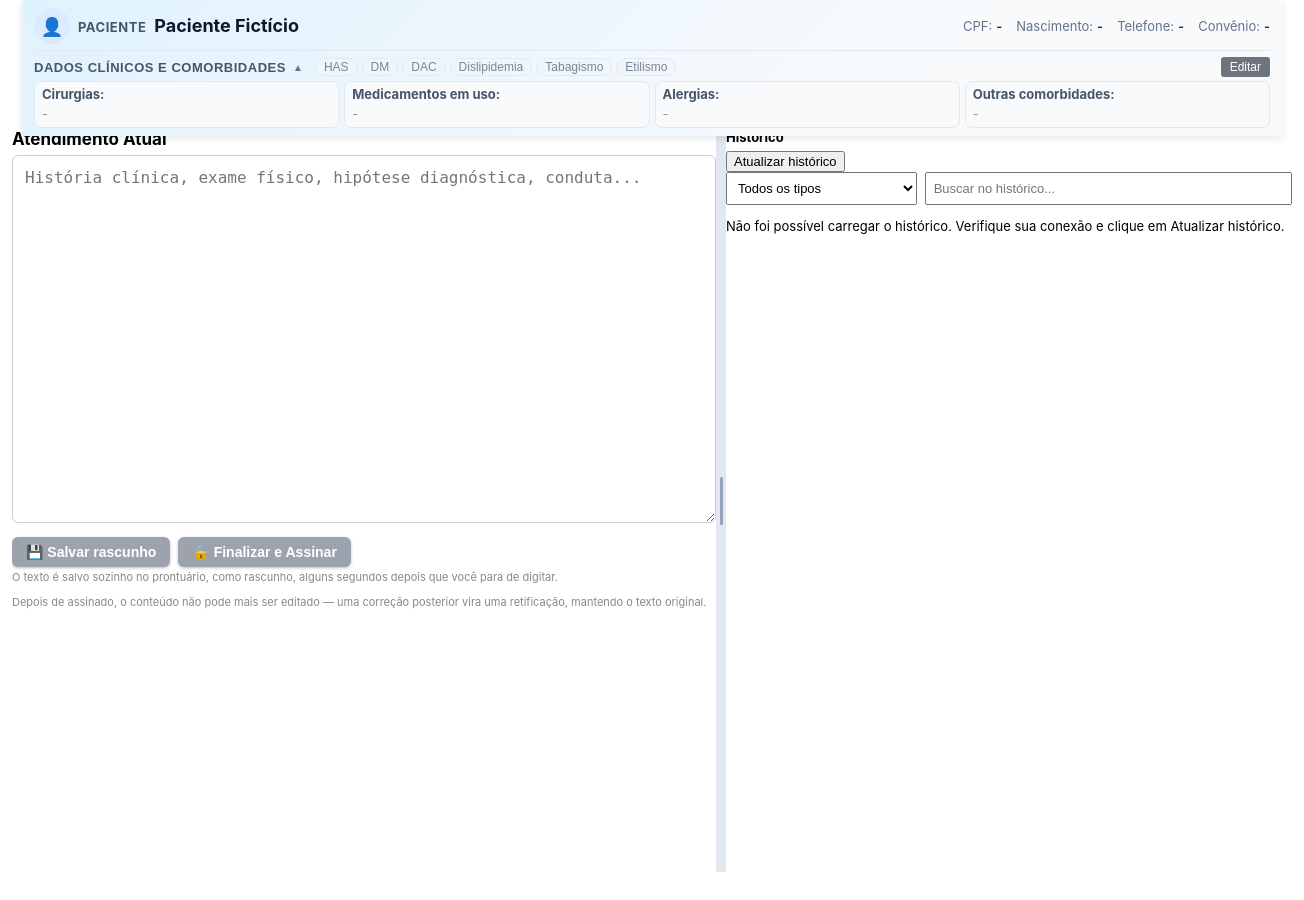
Test: erro de rede não aparece como histórico vazio e permite recarregar
The image size is (1304, 900).
Check: the message shows "Não foi possível carregar o histórico", box top-left (726, 218), bottom-right (1284, 234)
Check: the text "Nenhum registro ainda." is not shown
Step 1. Click the button "Atualizar histórico" → (785, 162), box top-left (726, 151), bottom-right (845, 172)
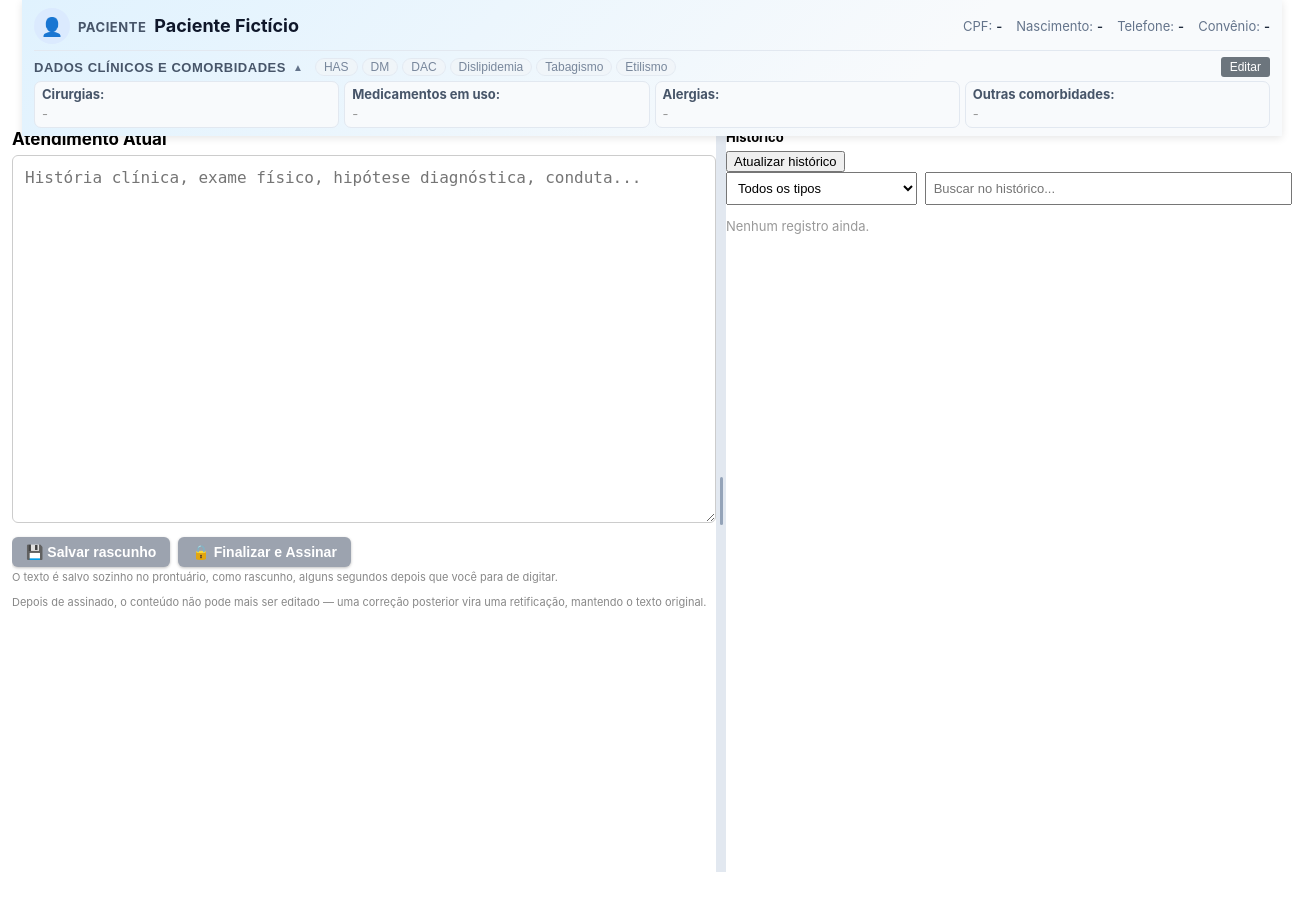
Check: the text "Nenhum registro ainda." is shown, box top-left (726, 218), bottom-right (869, 234)
